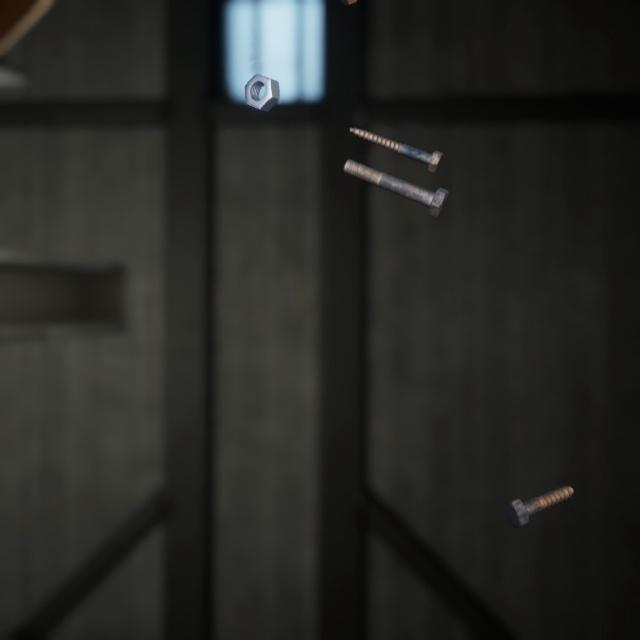bolt: (338, 141, 453, 208), (345, 110, 448, 165), (501, 459, 578, 510)
nut: (240, 57, 284, 104)
